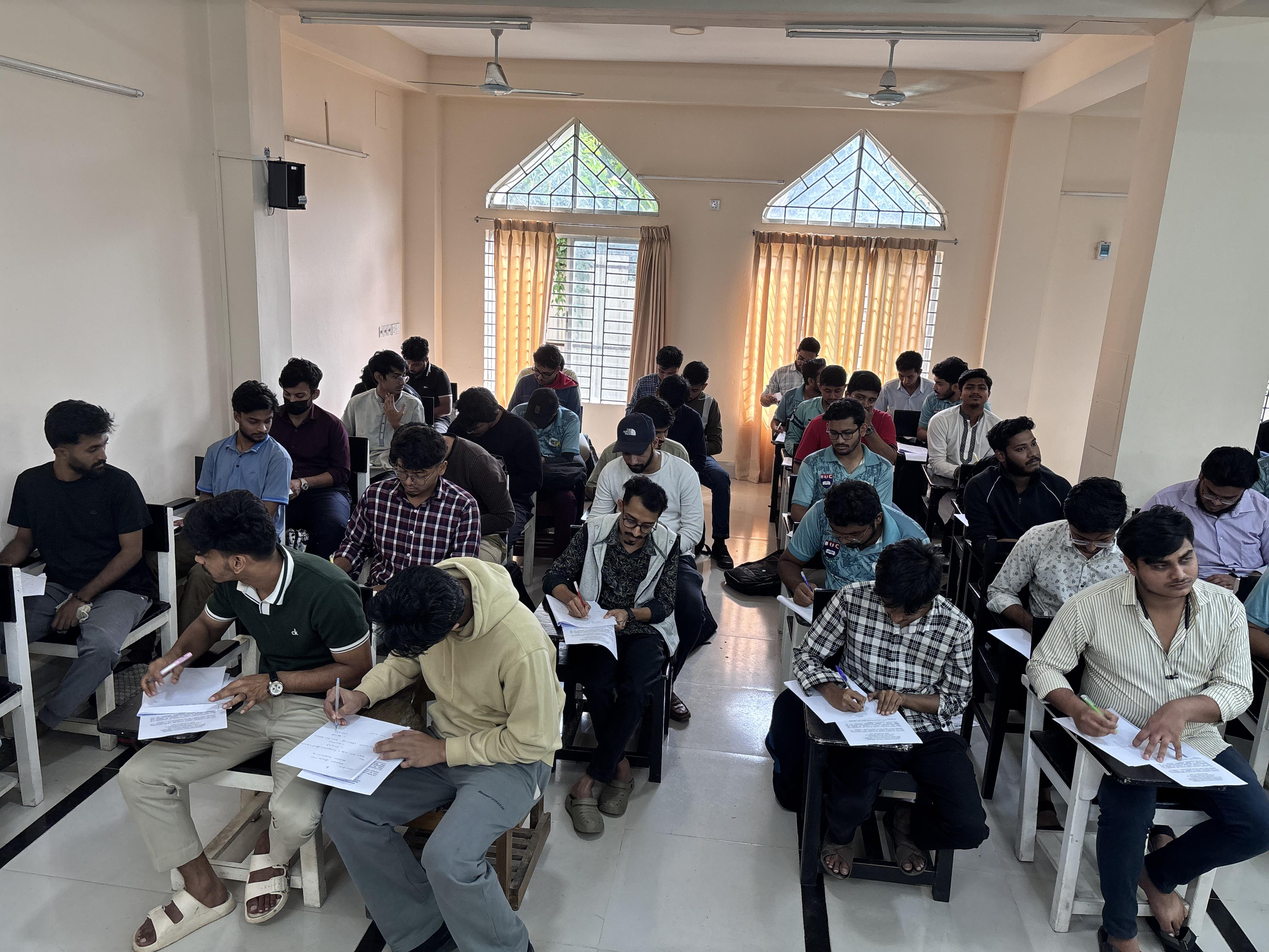copying: (147, 495, 304, 735), (21, 397, 156, 616), (220, 376, 280, 491), (356, 348, 419, 426), (930, 361, 964, 412)
no_cheating: (1083, 510, 1248, 804), (823, 539, 984, 834), (329, 567, 507, 832), (559, 472, 675, 657), (343, 424, 457, 586), (1031, 477, 1140, 604), (963, 416, 1065, 535), (1170, 439, 1269, 552), (796, 479, 900, 586), (270, 353, 333, 465), (942, 364, 1008, 464), (606, 409, 676, 492), (813, 399, 882, 483), (513, 383, 578, 468), (448, 380, 511, 466), (526, 344, 574, 400), (400, 330, 435, 384), (892, 348, 925, 404), (814, 362, 851, 411)
